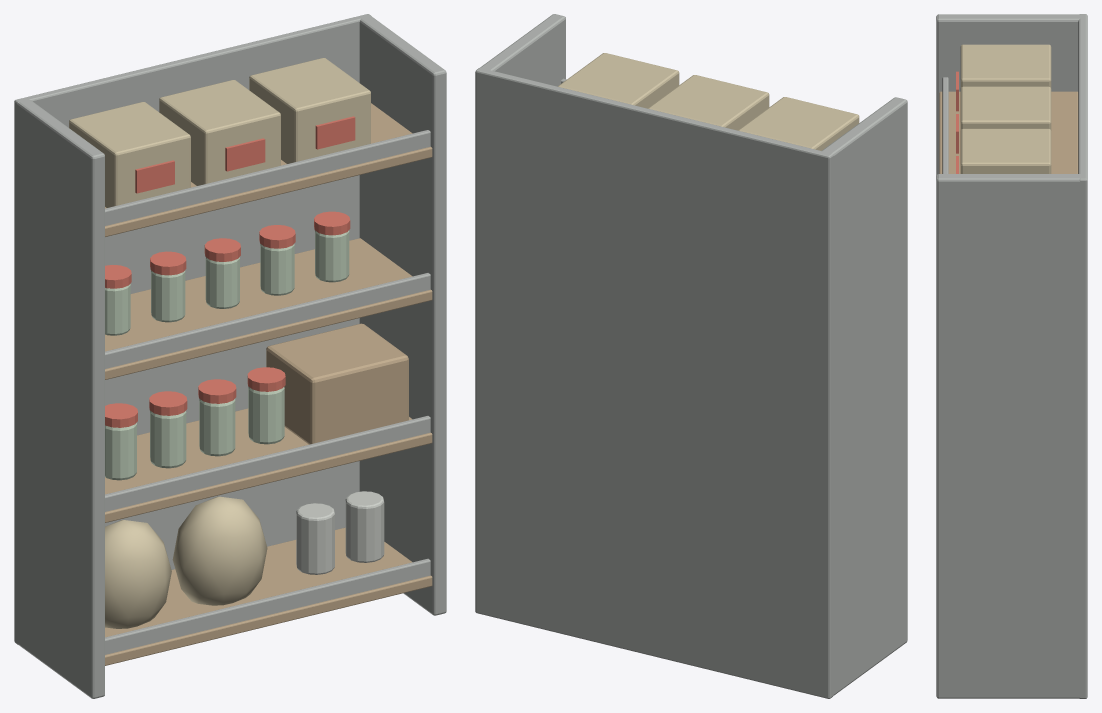
File: pantry_shelf.glb
The picture shows the model from 3 angles, left to right: view 1: azimuth 30°, elevation 25°; view 2: azimuth 150°, elevation 25°; view 3: azimuth 270°, elevation 25°; orthographic projection. The views are drawn at different scales.
Visible parts, largest first — view 1: pantry_shelf; view 2: pantry_shelf; view 3: pantry_shelf.
Part boxes in pixels (x1,y1,x2,y2): pantry_shelf: (14, 14, 446, 698); pantry_shelf: (475, 14, 907, 698); pantry_shelf: (936, 14, 1087, 698).
Bounding box in the file's own units: 1.3 × 1.9 × 0.5.
